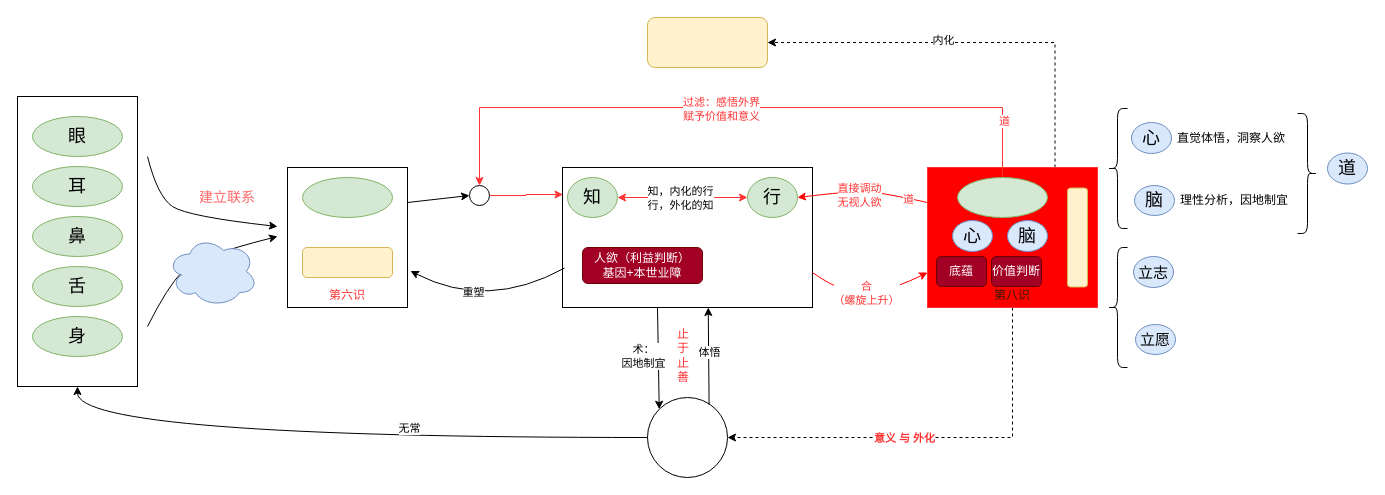
The diagram is 1385 pixels wide and 495 high, and some of its shapes have lost their labels. The shapes that lost their labels are listed below. From the top down, each one's box as (x1, y1, x2, y2) in pixels, then its label:
(646, 16, 768, 68): 心灵的自由与幸福 （常快活）
(302, 176, 392, 218): 意识
(956, 176, 1048, 218): 良知
(16, 96, 138, 386): 五识
(562, 166, 812, 308): 第七识
(1066, 187, 1088, 287): 专主一个天理
(166, 236, 258, 306): 所见所闻 书本知识 女色等 .....
(302, 246, 392, 278): 知识库/原料库
(646, 396, 728, 478): 万物
